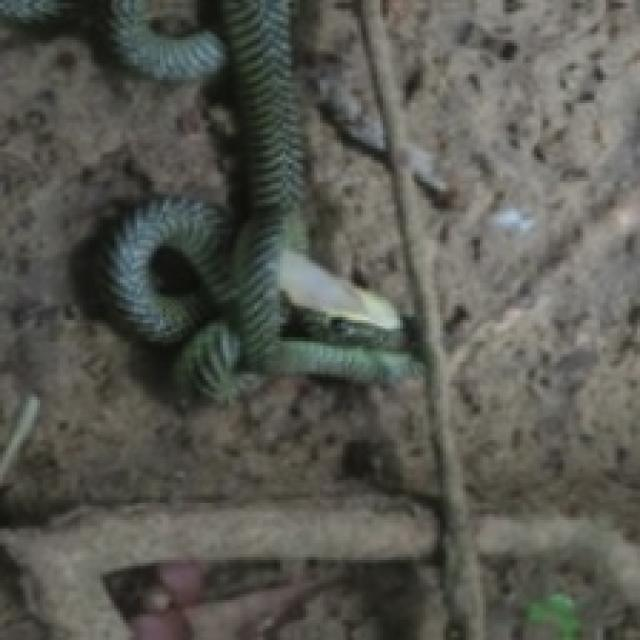paradise tree snake: (0, 0, 414, 400)
